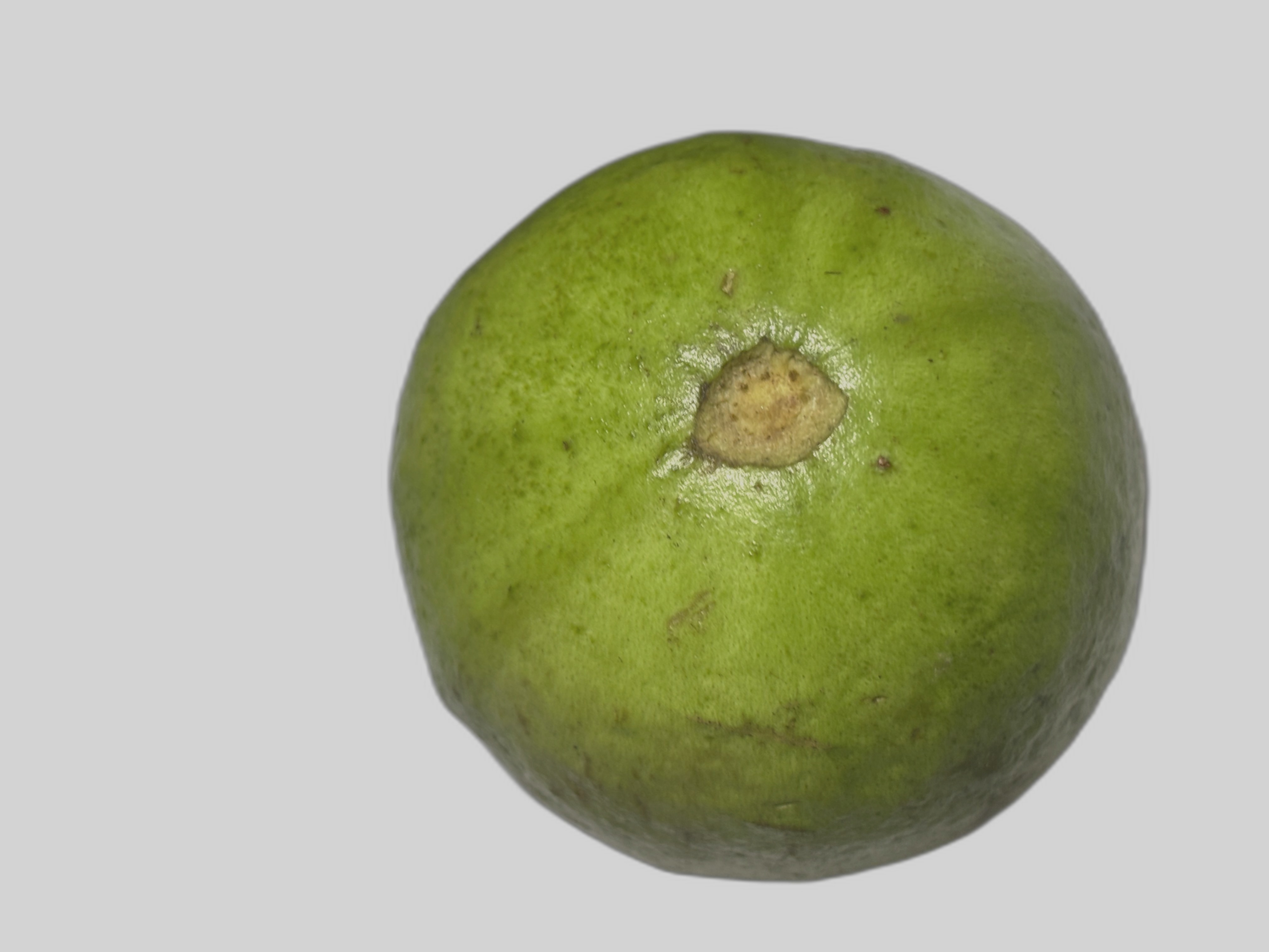guava: (238, 240, 1193, 889)
